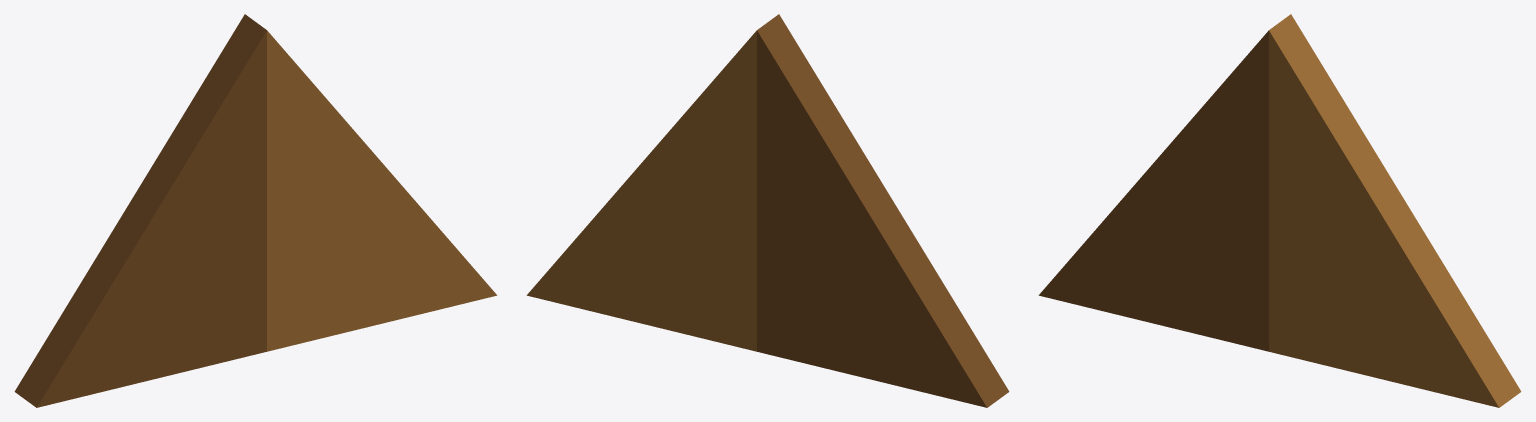
File: mountain-triangle.fbx
The picture shows the model from 3 angles, left to right: view 1: azimuth 30°, elevation 25°; view 2: azimuth 150°, elevation 25°; view 3: azimuth 330°, elevation 25°; orthographic projection.
Parts seen in each view (by area): view 1: Plane; view 2: Plane; view 3: Plane.
Boxes of the visible parts, x1,y1,x2,y2 form: Plane: [14, 14, 497, 407]; Plane: [526, 14, 1009, 407]; Plane: [1038, 14, 1521, 407].
Bounding box in the file's own units: 120000 × 80000 × 10000.
